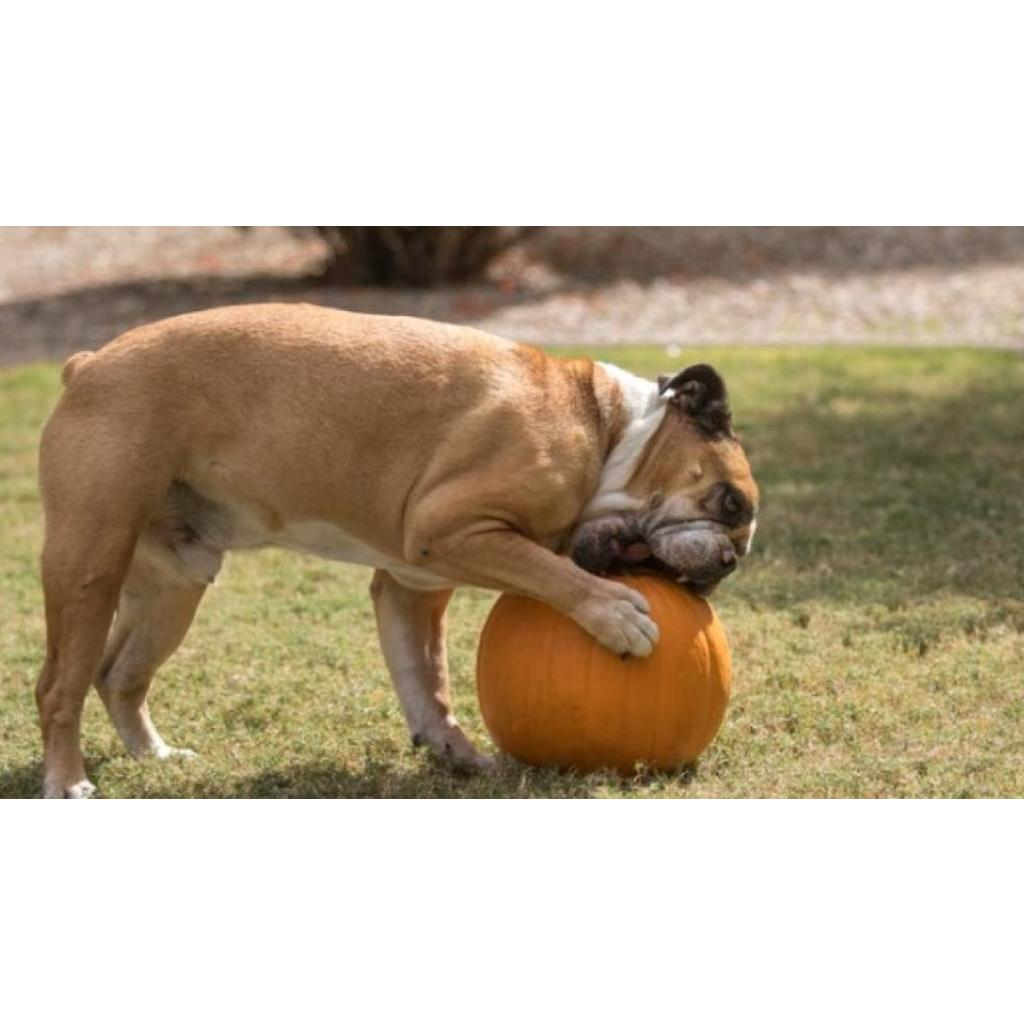pumpkin: (478, 575, 730, 771)
